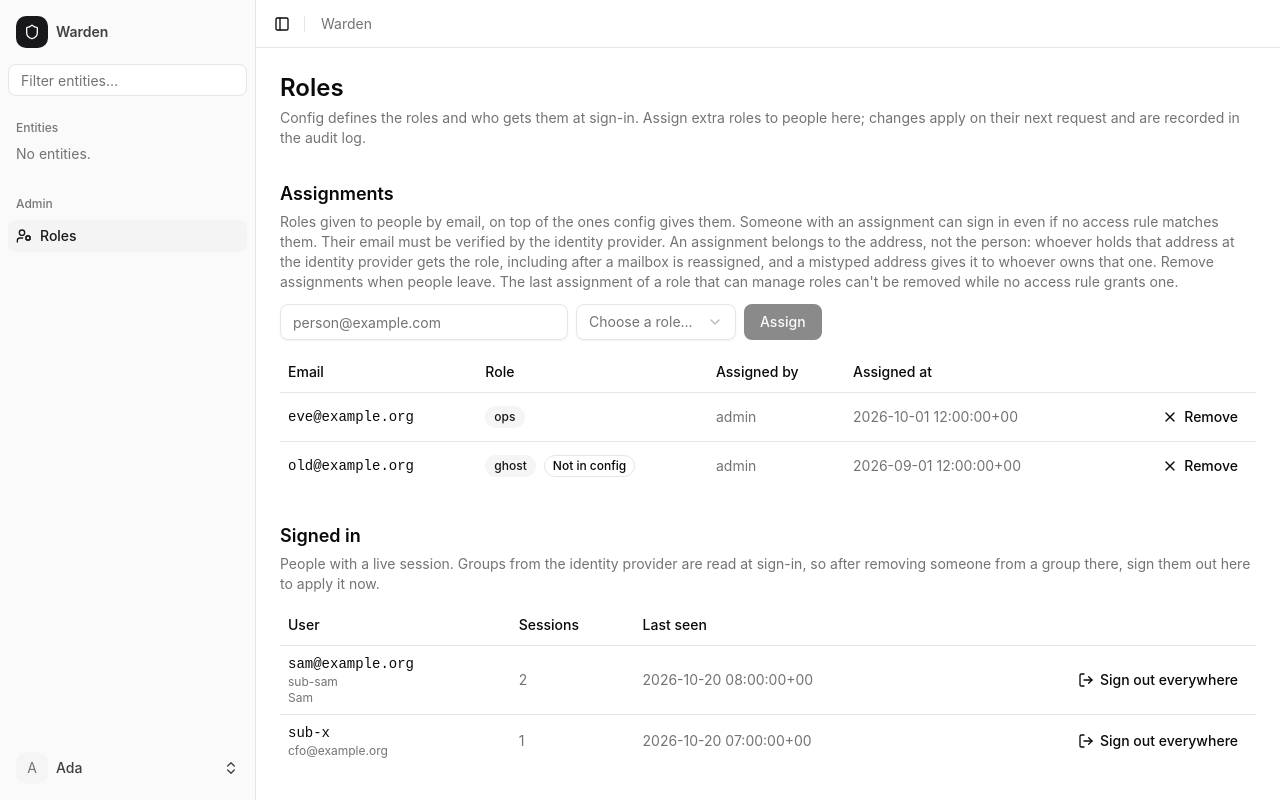
Scenario: roles page › removes an assignment
Click the button with aria-label "Remove ops from eve@example.org" at coordinates (1200, 416), box x1=1152 y1=400 x2=1248 y2=432
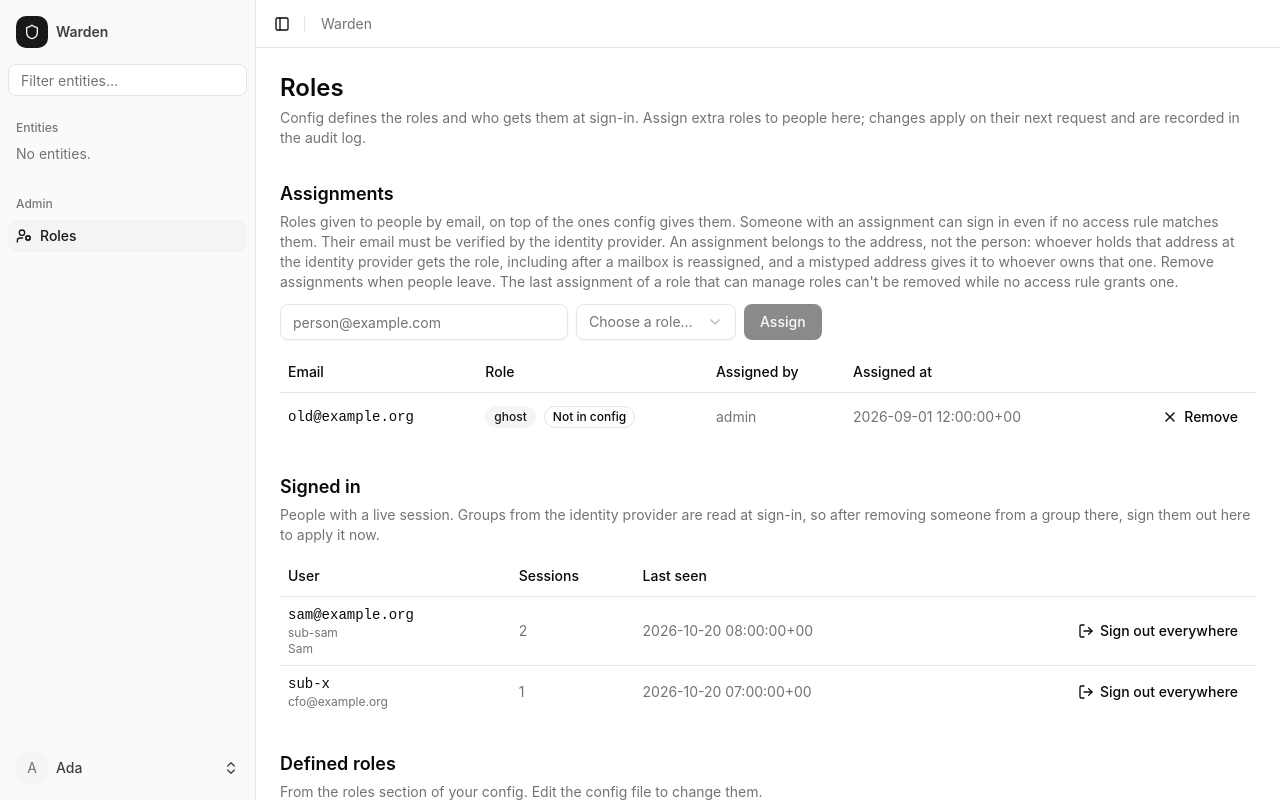
Check: the text "eve@example.org" is gone
